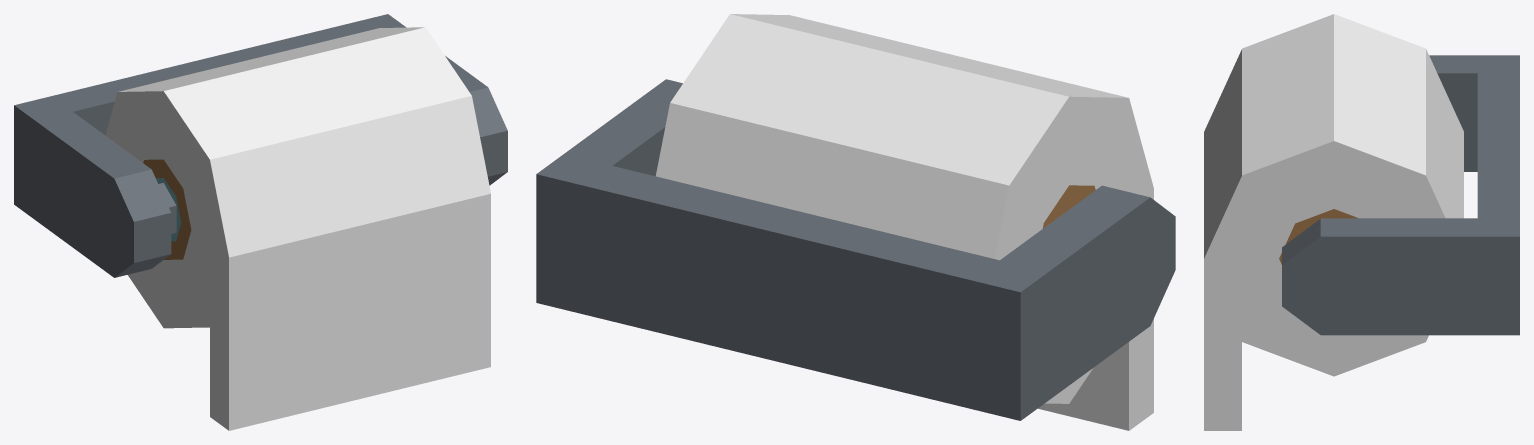
Rendered from Toilet_Paper.FBX.
3 views of the same model, side by side, from view 1: azimuth 30°, elevation 25°; view 2: azimuth 150°, elevation 25°; view 3: azimuth 270°, elevation 25° (orthographic). The views are drawn at different scales.
Visible parts, largest first — view 1: Toilet_Paper; view 2: Toilet_Paper; view 3: Toilet_Paper.
Boxes of the visible parts, left/top/right/bottom form: Toilet_Paper: left=14, top=14, right=507, bottom=430; Toilet_Paper: left=536, top=14, right=1175, bottom=430; Toilet_Paper: left=1204, top=14, right=1519, bottom=430.
Bounding box in the file's own units: 26.62 × 19.86 × 19.6.
